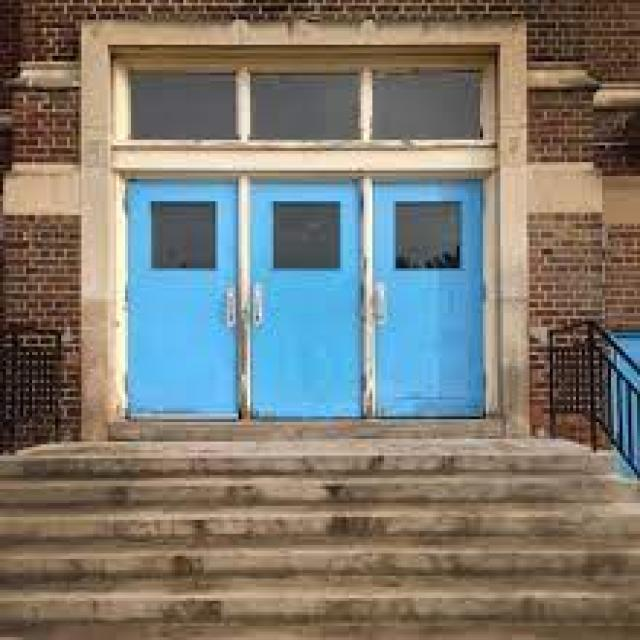upstair: (1, 429, 635, 633)
